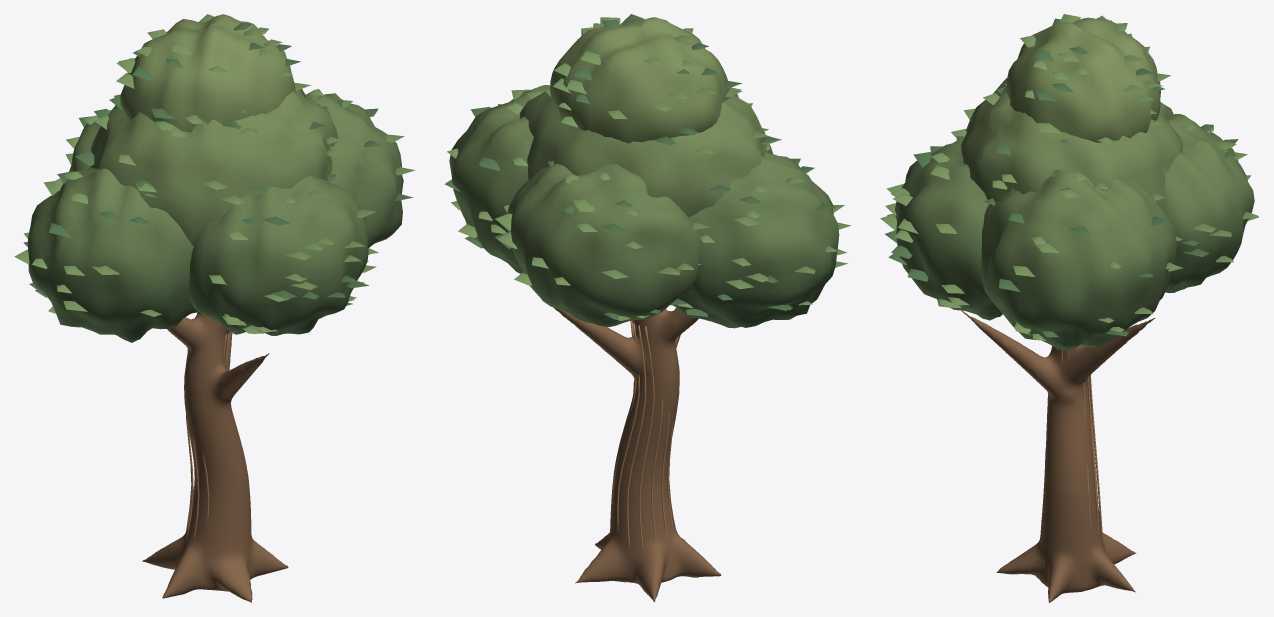
The model's file is tree.glb.
3 views of the same model, side by side, from view 1: azimuth 30°, elevation 25°; view 2: azimuth 150°, elevation 25°; view 3: azimuth 270°, elevation 25° (orthographic).
Parts seen in each view (by area): view 1: Organic leaf crown.001, Organic leaf crown.003, Organic leaf crown, Branching trunk, Organic leaf crown.005, Organic leaf crown.002, Organic leaf crown.004; view 2: Organic leaf crown.004, Organic leaf crown.001, Branching trunk, Organic leaf crown.005, Organic leaf crown, Organic leaf crown.002, Bark furrow.007; view 3: Organic leaf crown.002, Branching trunk, Organic leaf crown.005, Organic leaf crown, Organic leaf crown.003, Organic leaf crown.004.
Boxes of the visible parts, x1,y1,x2,y2 form: Organic leaf crown.001: [28, 168, 199, 342]; Organic leaf crown.003: [189, 176, 368, 335]; Organic leaf crown: [90, 82, 338, 245]; Branching trunk: [142, 312, 288, 602]; Organic leaf crown.005: [120, 14, 295, 132]; Organic leaf crown.002: [305, 93, 403, 248]; Organic leaf crown.004: [69, 105, 116, 171]; Organic leaf crown.004: [507, 163, 701, 327]; Organic leaf crown.001: [673, 152, 839, 328]; Branching trunk: [538, 295, 721, 602]; Organic leaf crown.005: [550, 17, 729, 143]; Organic leaf crown: [519, 89, 768, 217]; Organic leaf crown.002: [449, 85, 550, 273]; Bark furrow.007: [626, 325, 646, 548]; Organic leaf crown.002: [981, 170, 1177, 350]; Branching trunk: [961, 310, 1155, 602]; Organic leaf crown.005: [1006, 17, 1160, 142]; Organic leaf crown: [961, 78, 1182, 210]; Organic leaf crown.003: [894, 141, 1002, 320]; Organic leaf crown.004: [1163, 114, 1254, 293].
Size of the model in its own units: 2.76 by 3.95 by 2.45.
